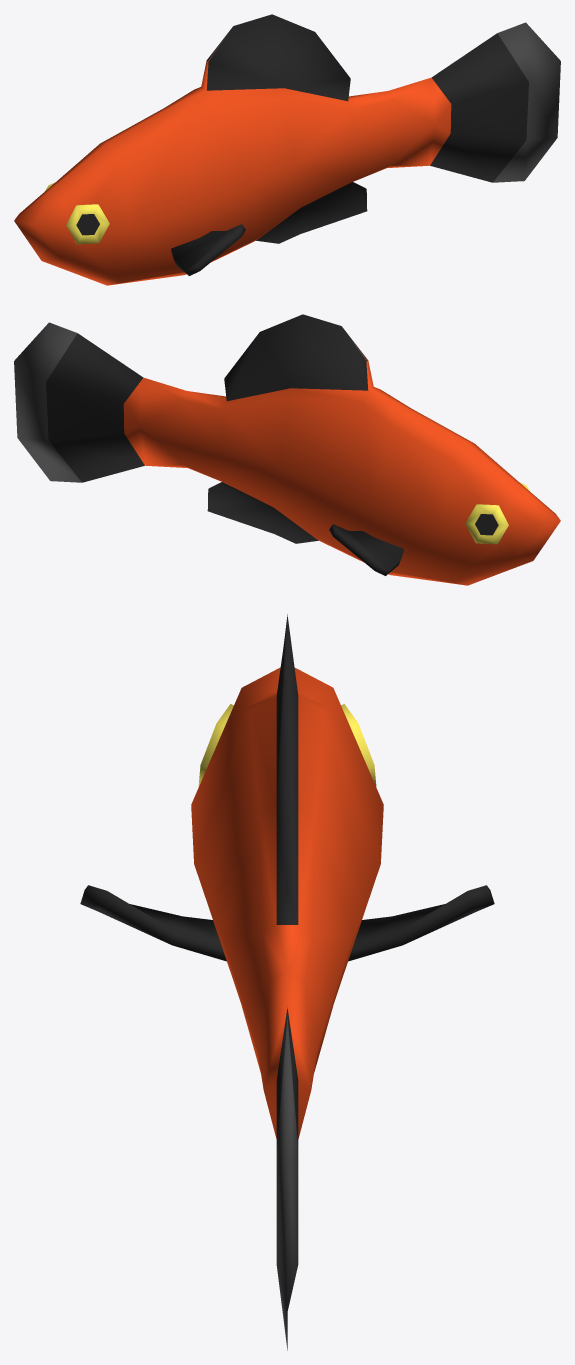
File: Fish_008.glb
3 renders of one model, top to bottom at view 1: azimuth 30°, elevation 25°; view 2: azimuth 150°, elevation 25°; view 3: azimuth 270°, elevation 25°, orthographic. The views are drawn at different scales.
Visible parts, largest first — view 1: Fish_008; view 2: Fish_008; view 3: Fish_008.
Part boxes in pixels (x1,y1,x2,y2): Fish_008: (14,14,560,285); Fish_008: (14,314,560,585); Fish_008: (80,614,494,1350).
Bounding box in the file's own units: 0.5679 × 0.2376 × 0.1863.
1 material, 1 textured.
